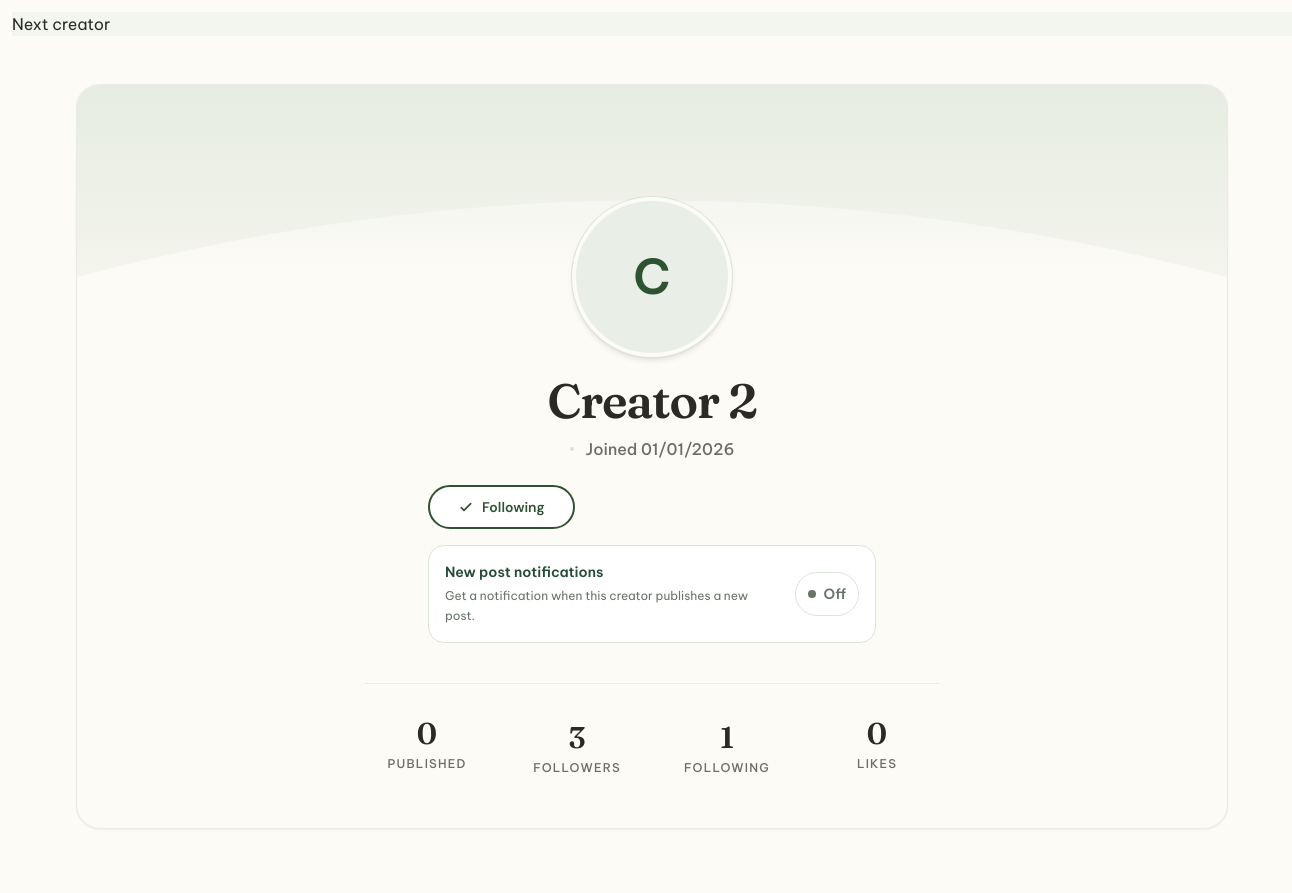
Test case: discards a late preference response when navigating to another creator
This screenshot has width=1292, height=893.
Click the switch labelled "Off" at x=827, y=594, box [795,572,859,616]
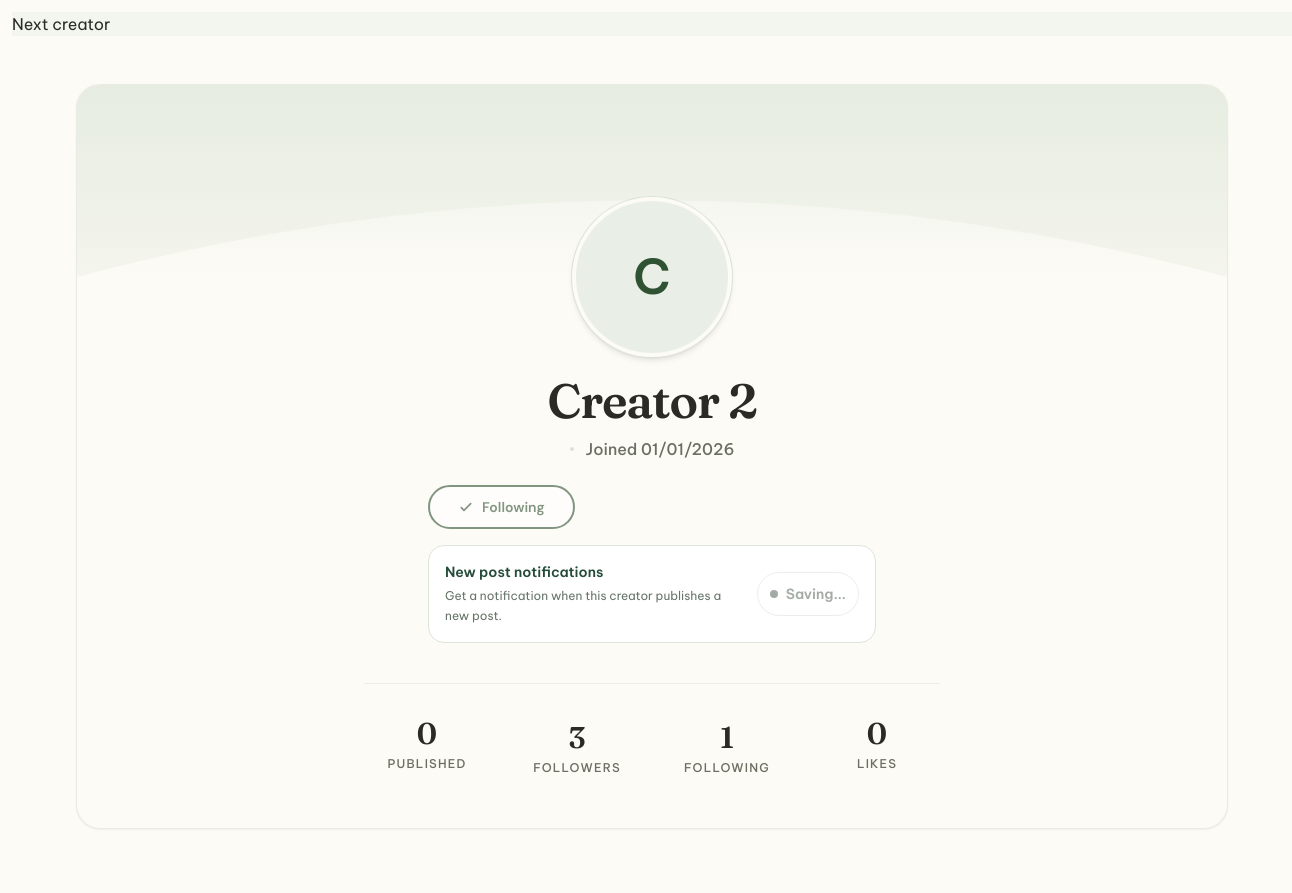
Click the link to "/users/3" at x=61, y=24, box [12,14,110,34]
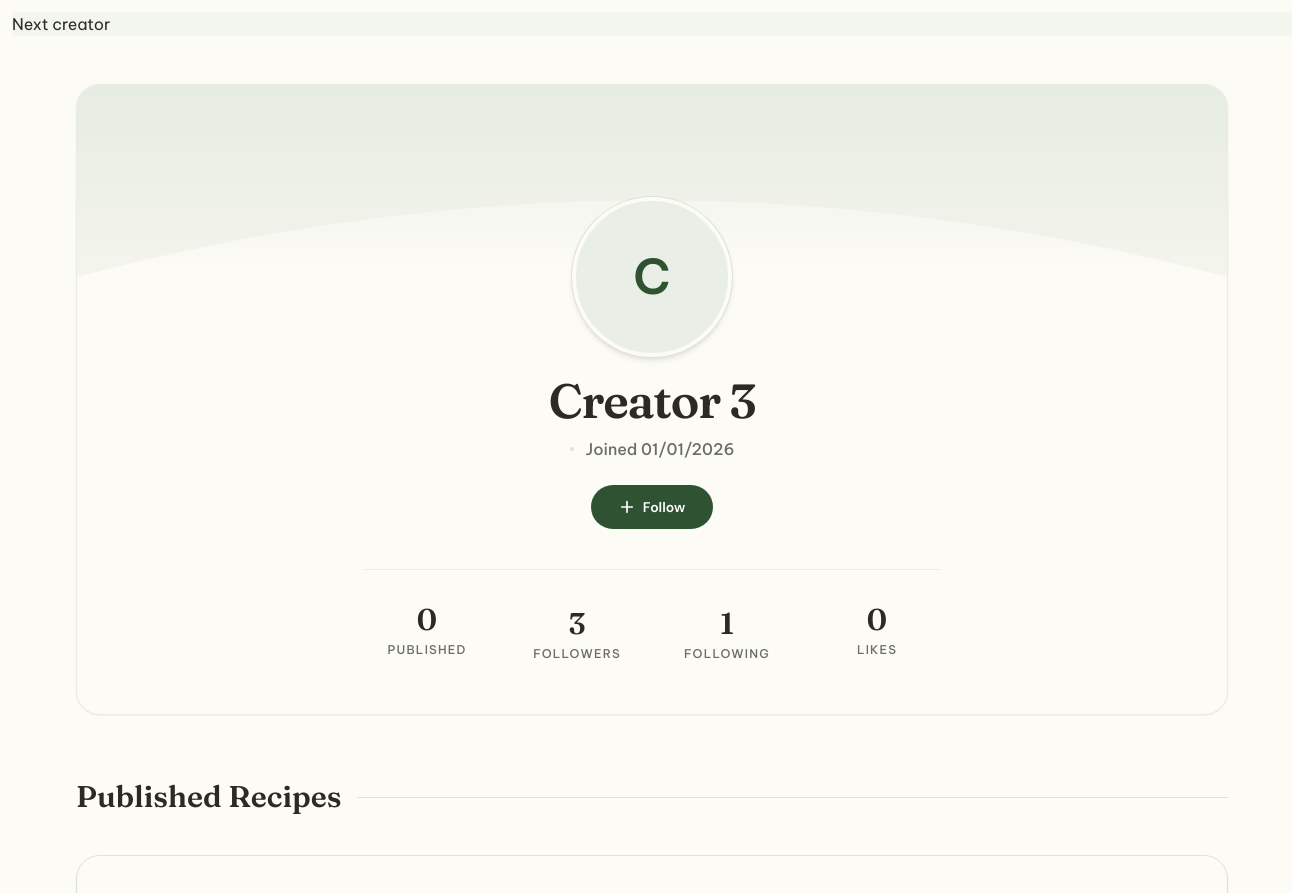
Result: the switch is gone
Result: the text "Creator 3" is shown at [549,377,755,425]
